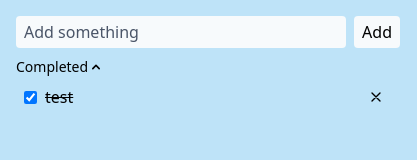
Scenario: should uncomplete todo
Click the checkbox at coordinates (30, 97), box [24, 90, 37, 104]
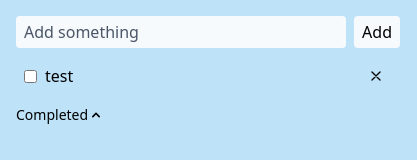
Now the checkbox is not checked, box [24, 70, 37, 82]
